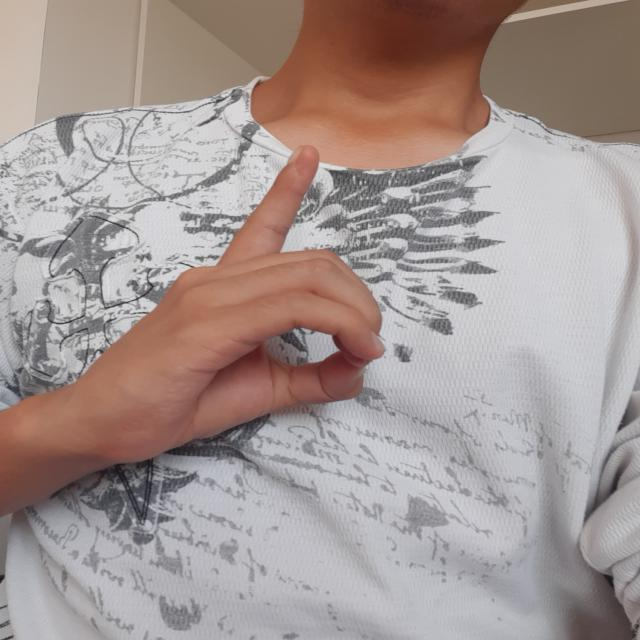D: (76, 137, 408, 469)
